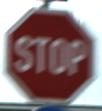Stop sign: (0, 0, 101, 110)
